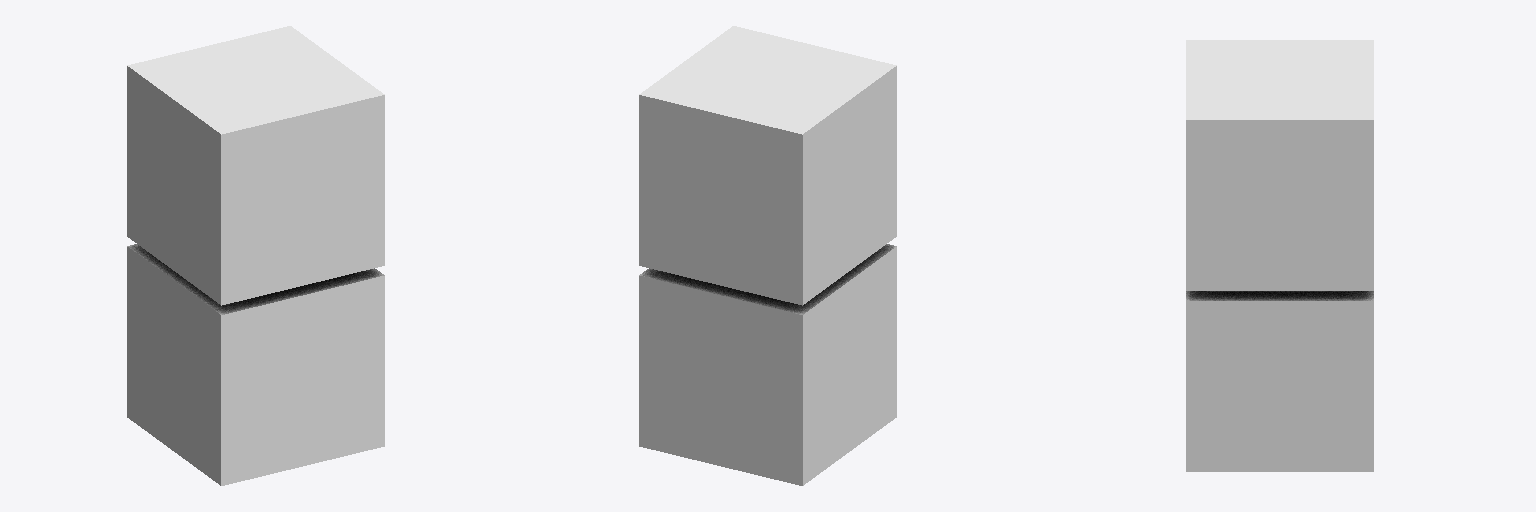
3 renders of one model, left to right at view 1: azimuth 30°, elevation 25°; view 2: azimuth 150°, elevation 25°; view 3: azimuth 270°, elevation 25°, orthographic.
Parts seen in each view (by area): view 1: Cube; view 2: Cube; view 3: Cube.
Part boxes in pixels (x1,y1,x2,y2): Cube: (127,26,384,485); Cube: (639,26,896,485); Cube: (1186,40,1373,471).
Bounding box in the file's own units: 2 × 4.11 × 2.
Materials: 1 (1 with a texture image).